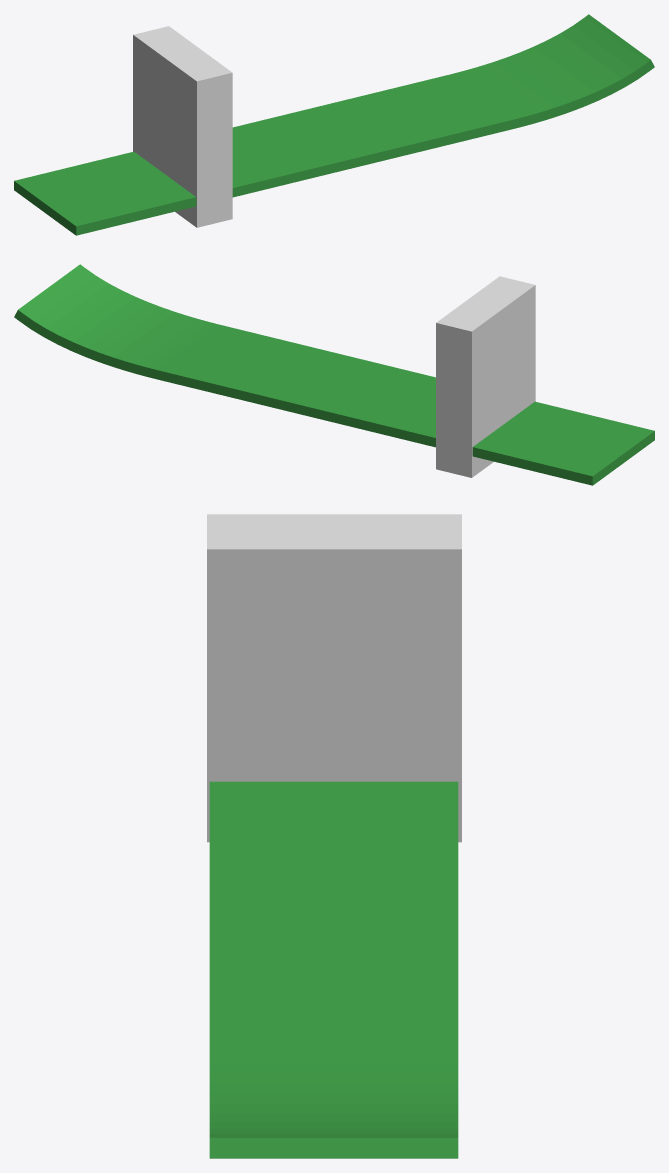
The model's file is track_short.glb.
The picture shows the model from 3 angles, top to bottom: view 1: azimuth 30°, elevation 25°; view 2: azimuth 150°, elevation 25°; view 3: azimuth 270°, elevation 25°; orthographic projection. The views are drawn at different scales.
Parts seen in each view (by area): view 1: path1194, Cube; view 2: path1194, Cube; view 3: path1194, Cube.
Part boxes in pixels (box(x1,y1,x2,y2)): path1194: box(14, 14, 654, 235); Cube: box(133, 26, 232, 227); path1194: box(14, 264, 654, 485); Cube: box(436, 276, 535, 477); path1194: box(209, 781, 458, 1158); Cube: box(207, 514, 461, 842).
Size of the model in its own units: 162 by 39.1 by 30.84.
